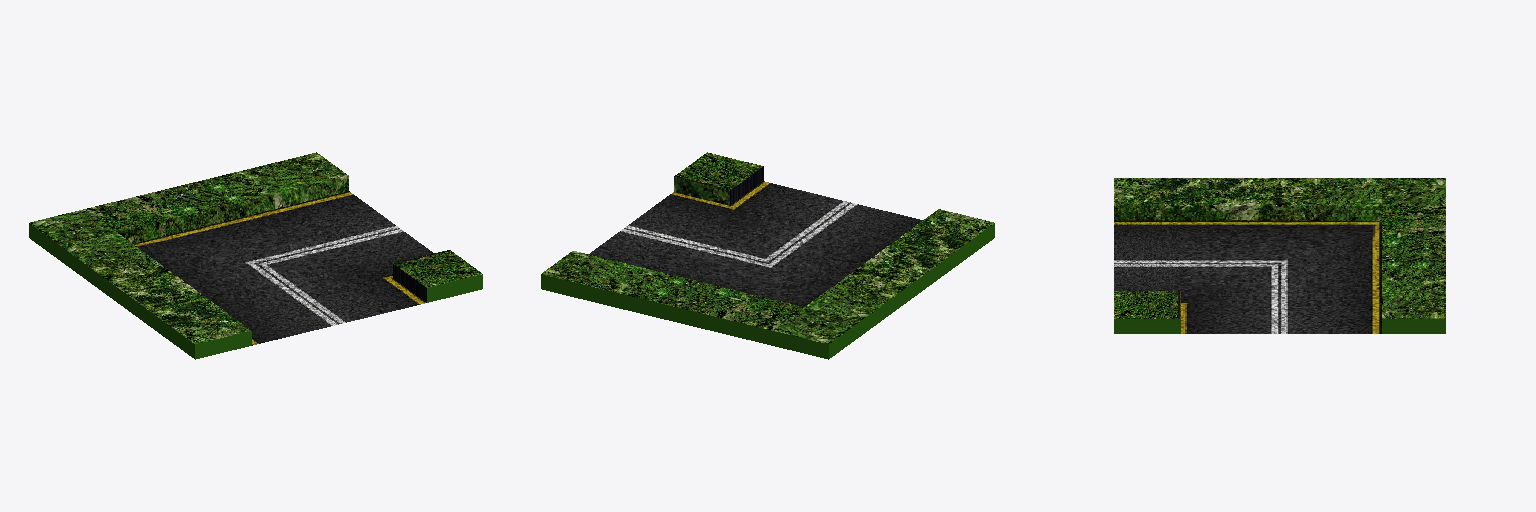
3 views of the same model, side by side, from view 1: azimuth 30°, elevation 25°; view 2: azimuth 150°, elevation 25°; view 3: azimuth 270°, elevation 25° (orthographic).
Visible parts, largest first — view 1: Plane.001; view 2: Plane.001; view 3: Plane.001.
Boxes of the visible parts, x1=… form: Plane.001: x1=29, y1=152, x2=482, y2=359; Plane.001: x1=541, y1=152, x2=994, y2=359; Plane.001: x1=1114, y1=178, x2=1445, y2=333.
Size of the model in its own units: 20 by 1 by 20.
Materials: 1 (1 with a texture image).